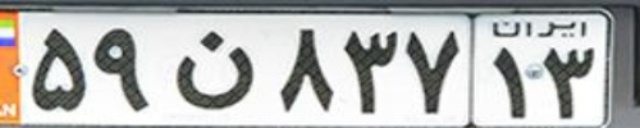1: (489, 47, 529, 118)
3: (343, 31, 395, 114), (541, 46, 596, 117)
5: (33, 28, 86, 110)
7: (406, 30, 459, 113)
8: (278, 28, 336, 111)
9: (93, 28, 148, 110)
non: (175, 30, 253, 109)
